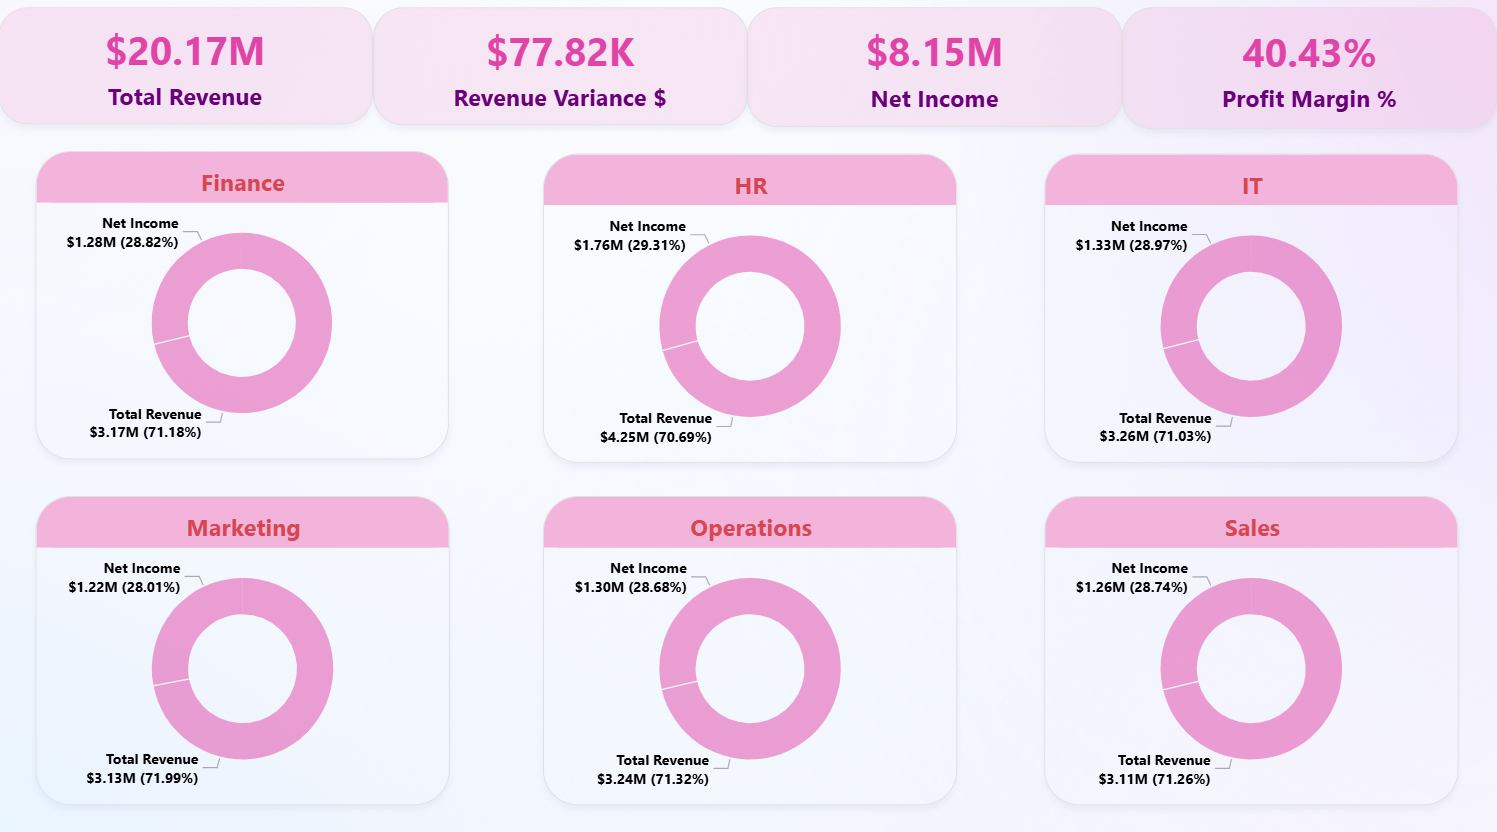

What the dashboard file says about the page in this screenshot:
{"tool":"powerbi","page":{"name":"Revenue & Profit Analysis","canvas":[1280,720],"ordinal":1},"visuals":[{"type":"card","fields":{"Values":["_Measures.Revenue Variance $"]},"box":[319.7,13.9,319.7,101.1],"z":0},{"type":"card","fields":{"Values":["_Measures.Profit Margin %"]},"box":[959.2,13.9,321,103.6],"z":1000},{"type":"card","fields":{"Values":["_Measures.Net Income"]},"box":[639.5,13.9,321,102.4],"z":2000},{"type":"card","fields":{"Values":["_Measures.Total Revenue"]},"box":[0,13.9,319.7,99.8],"z":3000},{"type":"donutChart","title":"Finance","fields":{"Y":["_Measures.Total Revenue","_Measures.Net Income"],"Category":["Dim_Department.DeptName"]},"box":[31.6,136.5,352.6,262.9],"z":4000},{"type":"donutChart","title":"HR","fields":{"Y":["_Measures.Total Revenue","_Measures.Net Income"],"Category":["Dim_Department.DeptName"]},"box":[464.7,138.2,353.9,264.3],"z":5000},{"type":"donutChart","title":"IT","fields":{"Y":["_Measures.Total Revenue","_Measures.Net Income"],"Category":["Dim_Department.DeptName"]},"box":[893,138.2,353.9,264.3],"z":6000},{"type":"donutChart","title":"Marketing","fields":{"Y":["_Measures.Total Revenue","_Measures.Net Income"],"Category":["Dim_Department.DeptName"]},"box":[31.9,431.3,353.9,264.3],"z":7000},{"type":"donutChart","title":"Operations","fields":{"Y":["_Measures.Total Revenue","_Measures.Net Income"],"Category":["Dim_Department.DeptName"]},"box":[464.7,431.3,353.9,264.3],"z":8000},{"type":"donutChart","title":"Sales","fields":{"Y":["_Measures.Total Revenue","_Measures.Net Income"],"Category":["Dim_Department.DeptName"]},"box":[893,431.3,353.9,264.3],"z":9000}]}

Visuals, with their boxes in screenshot pixels (x1, y1, x2, y2), scaled from the page's 1280x720 canvas onto the 1497x832 screenshot:
card - _Measures.Revenue Variance $: [374,16,748,133]
card - _Measures.Profit Margin %: [1122,16,1496,136]
card - _Measures.Net Income: [748,16,1123,134]
card - _Measures.Total Revenue: [0,16,374,131]
"Finance" donutChart: [37,158,449,462]
"HR" donutChart: [543,160,957,465]
"IT" donutChart: [1044,160,1458,465]
"Marketing" donutChart: [37,498,451,804]
"Operations" donutChart: [543,498,957,804]
"Sales" donutChart: [1044,498,1458,804]
